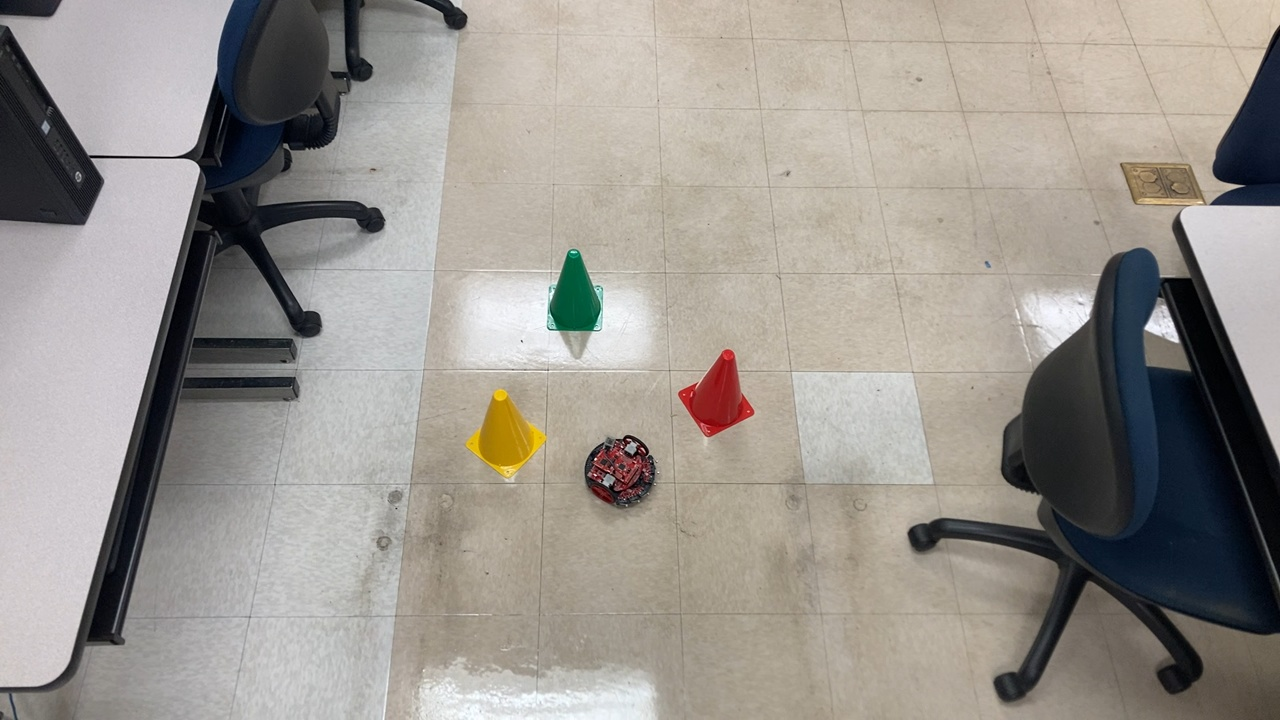green_cone: (545, 246, 611, 336)
red_cone: (675, 344, 760, 440)
robot: (579, 431, 660, 517)
yellow_cone: (465, 387, 550, 486)
